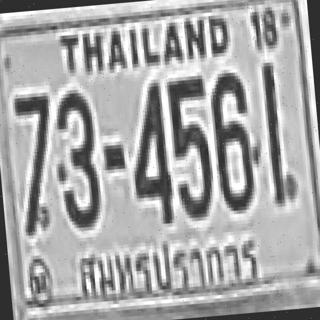N01: (260, 62, 290, 204)
N03: (49, 87, 101, 228)
N04: (124, 79, 172, 222)
N05: (164, 74, 214, 218)
N06: (207, 70, 256, 210)
N07: (11, 90, 59, 231)
P57: (72, 230, 270, 310)
